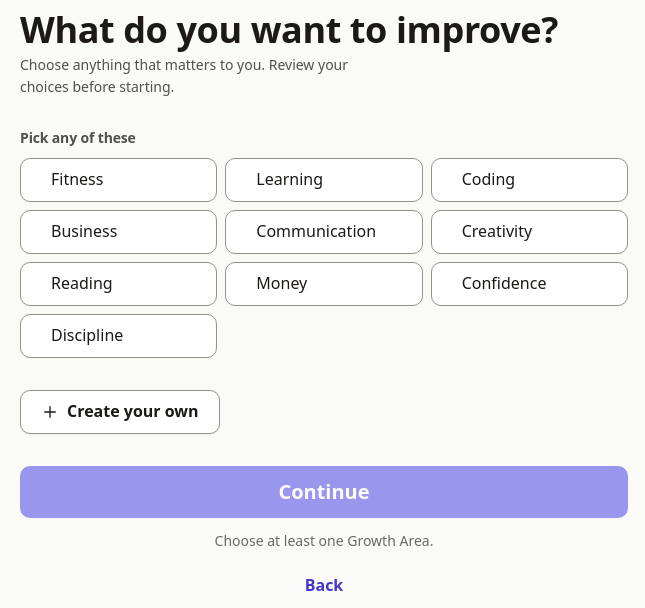
Scenario: choosing growth areas › never signals selection with colour alone
Click the button "Fitness".
click(119, 180)  # box x1=20 y1=158 x2=217 y2=202
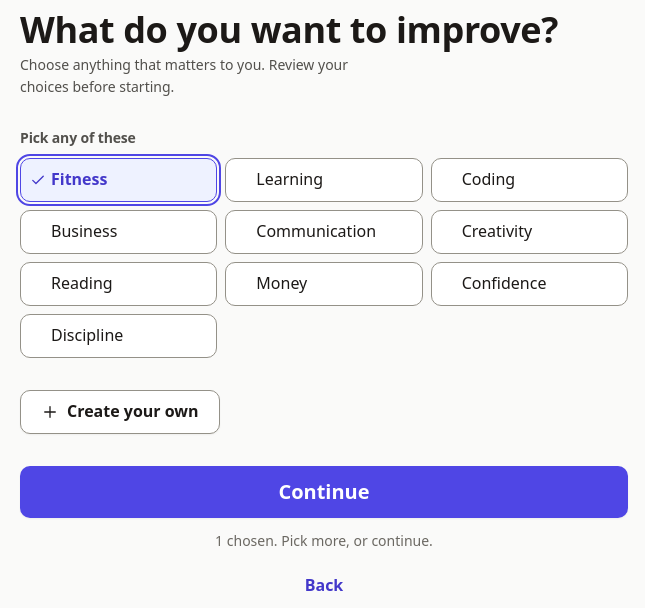
Result: the icon below "Pick any of these" is shown at x1=29 y1=171 x2=47 y2=189
